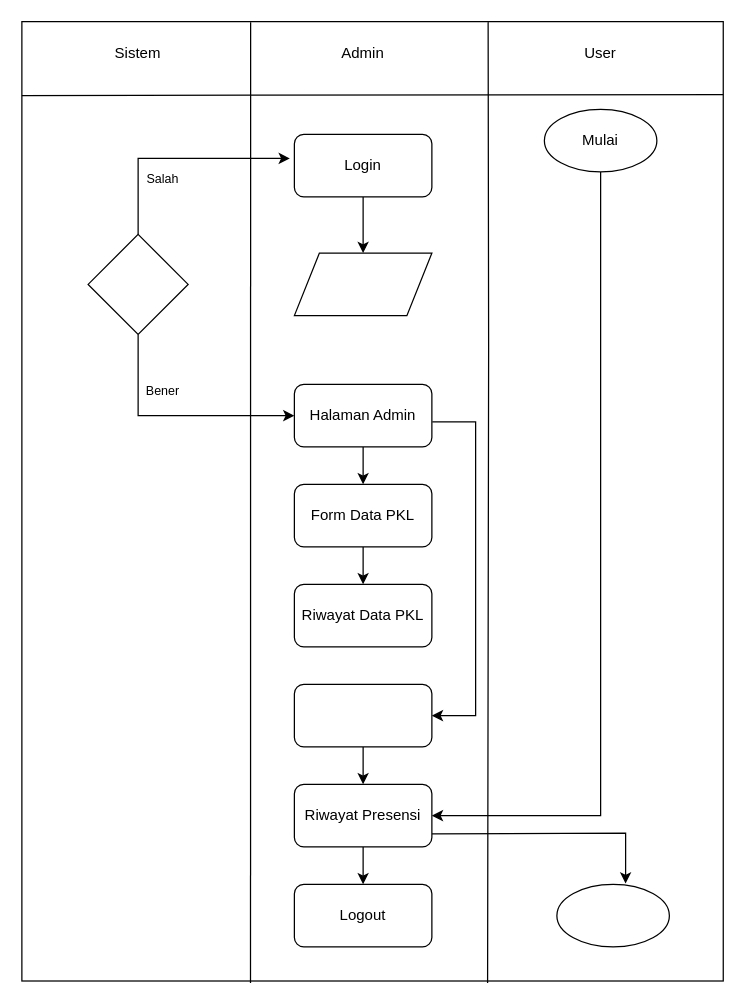
This 748x1008 diagram has some shape labels left out. The shapes that lost their labels are listed below. From the top down, each one's box as (x1, y1, x2, y2) in pixels, then its label:
(87, 233, 188, 334): Verifikasi
(293, 252, 432, 316): Email dan Password
(293, 683, 432, 747): Form Presensi
(556, 883, 669, 947): Selesai
